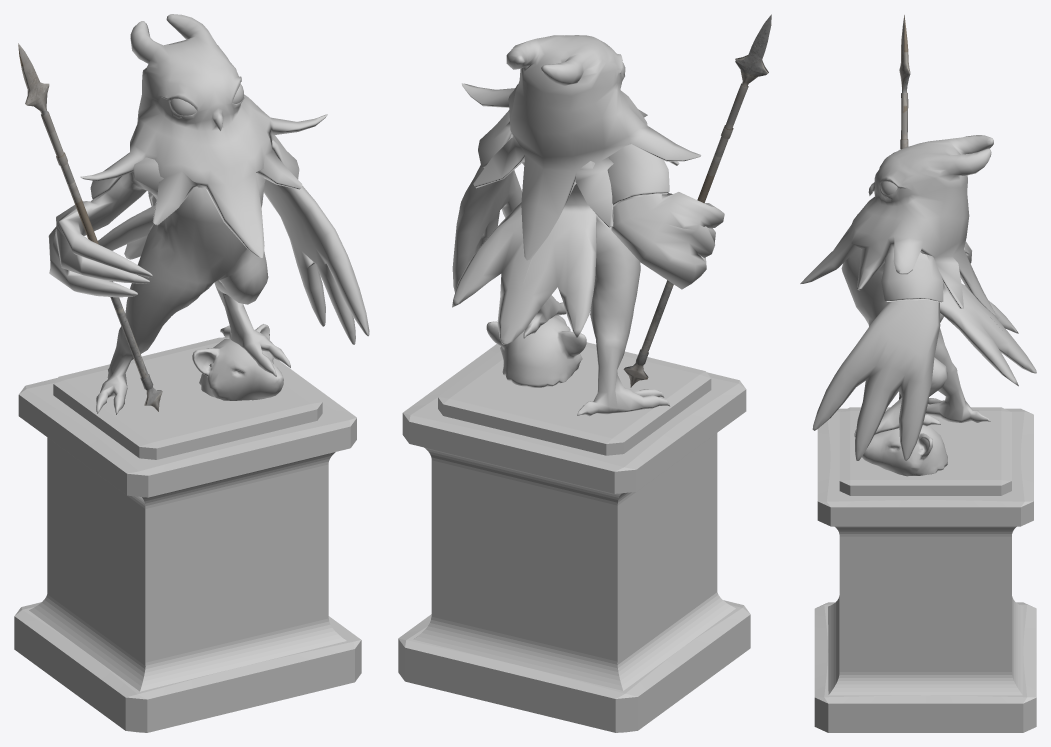
The model's file is Bigstatue_mesh.fbx.
The picture shows the model from 3 angles, left to right: view 1: azimuth 30°, elevation 25°; view 2: azimuth 150°, elevation 25°; view 3: azimuth 270°, elevation 25°; orthographic projection. The views are drawn at different scales.
Parts seen in each view (by area): view 1: Pedestal_UV.001, Owlian_LOW_mesh.001, rat_LOW.002, Owlian_spear_LOW2.001; view 2: Pedestal_UV.001, Owlian_LOW_mesh.001, rat_LOW.002, Owlian_spear_LOW2.001; view 3: Pedestal_UV.001, Owlian_LOW_mesh.001, rat_LOW.002, Owlian_spear_LOW2.001.
Boxes of the visible parts, bbox=[...] form: Pedestal_UV.001: bbox=[14, 337, 361, 732]; Owlian_LOW_mesh.001: bbox=[48, 14, 369, 414]; rat_LOW.002: bbox=[192, 324, 283, 400]; Owlian_spear_LOW2.001: bbox=[18, 43, 162, 411]; Pedestal_UV.001: bbox=[398, 342, 750, 732]; Owlian_LOW_mesh.001: bbox=[452, 35, 724, 416]; rat_LOW.002: bbox=[486, 315, 586, 387]; Owlian_spear_LOW2.001: bbox=[623, 14, 771, 387]; Pedestal_UV.001: bbox=[814, 407, 1036, 732]; Owlian_LOW_mesh.001: bbox=[800, 135, 1036, 460]; rat_LOW.002: bbox=[862, 425, 947, 476]; Owlian_spear_LOW2.001: bbox=[899, 15, 910, 399].
Bounding box in the file's own units: 196 × 406 × 147.
